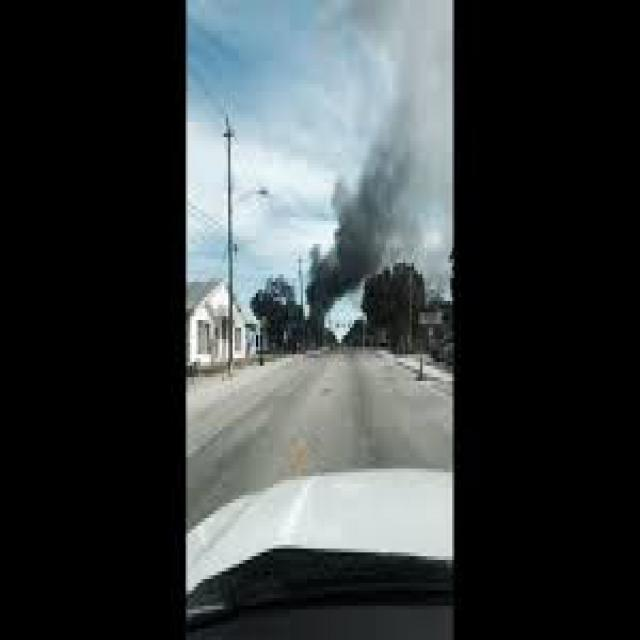Smoke: (270, 2, 450, 360)
